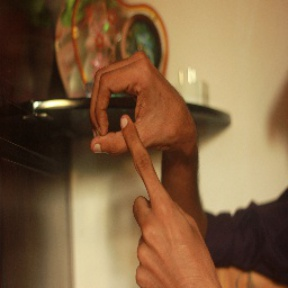Q: (83, 49, 186, 226)
